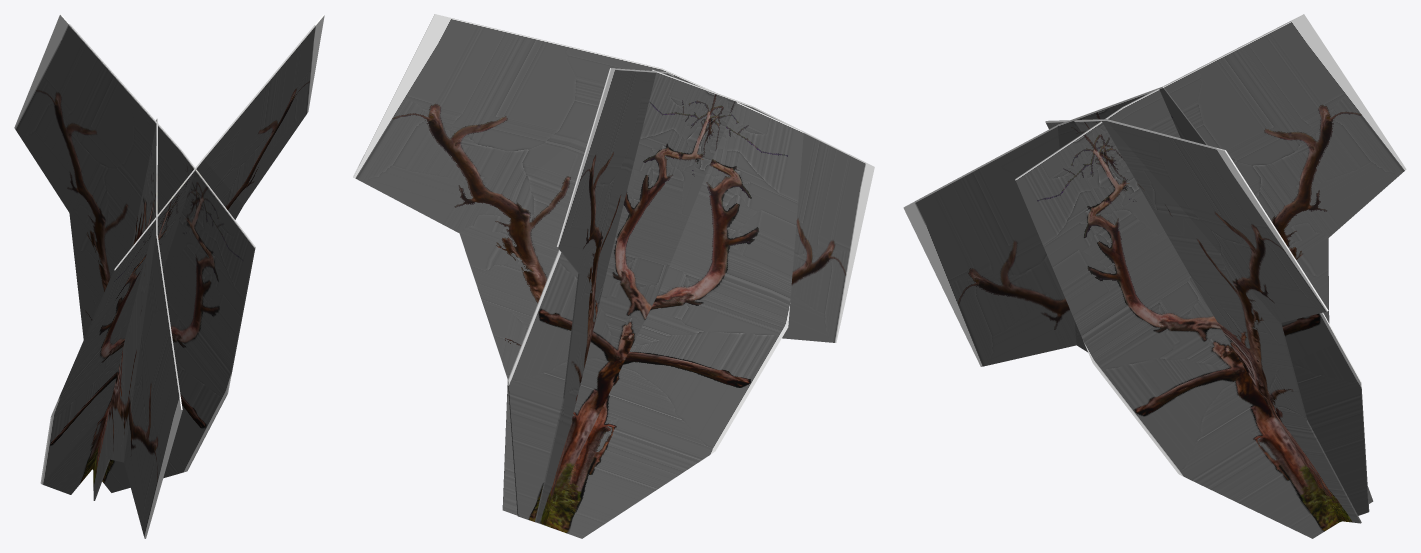
File: ded tree 3.2.fbx
3 views of the same model, side by side, from view 1: azimuth 30°, elevation 25°; view 2: azimuth 150°, elevation 25°; view 3: azimuth 270°, elevation 25° (orthographic). The views are drawn at different scales.
Parts seen in each view (by area): view 1: ded tree 3; view 2: ded tree 3; view 3: ded tree 3.
Part boxes in pixels (<box>): ded tree 3: <box>14,14,324,538</box>; ded tree 3: <box>353,14,874,538</box>; ded tree 3: <box>903,14,1406,538</box>.
Size of the model in its own units: 353 by 387 by 291.
